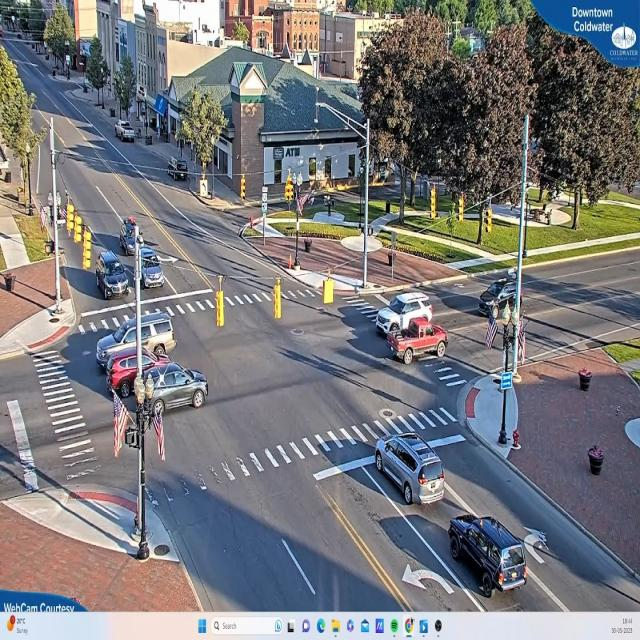car: (449, 515, 533, 595), (376, 432, 445, 506), (97, 310, 177, 372), (124, 363, 207, 414), (375, 292, 435, 338), (386, 321, 448, 364), (96, 246, 130, 308), (143, 262, 166, 288), (117, 122, 137, 144)
